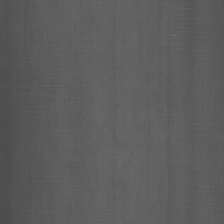waist_folding: (169, 8, 221, 209)
